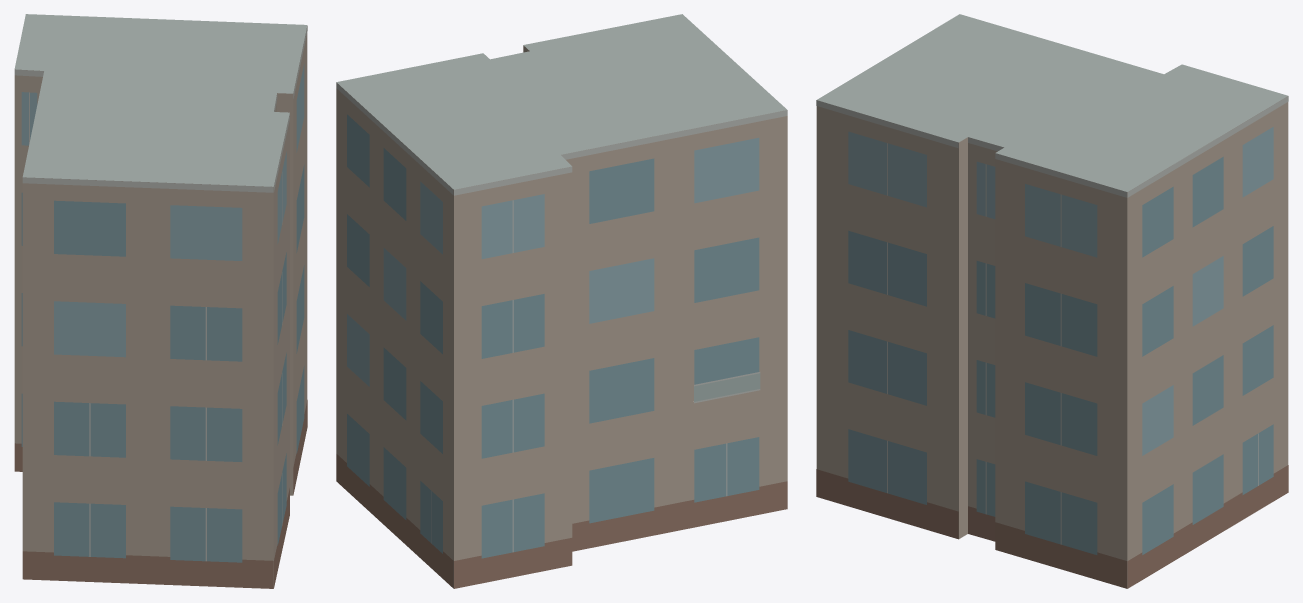
The model's file is survey-upis-32855718.glb.
3 renders of one model, left to right at view 1: azimuth 30°, elevation 25°; view 2: azimuth 150°, elevation 25°; view 3: azimuth 270°, elevation 25°, orthographic.
Parts seen in each view (by area): view 1: survey-upis-32855718.tmp; view 2: survey-upis-32855718.tmp; view 3: survey-upis-32855718.tmp.
Part boxes in pixels (x1,y1,x2,y2): survey-upis-32855718.tmp: (14, 14, 307, 588); survey-upis-32855718.tmp: (336, 14, 787, 588); survey-upis-32855718.tmp: (816, 14, 1288, 588).
Bounding box in the file's own units: 15.87 × 16.48 × 17.77.
